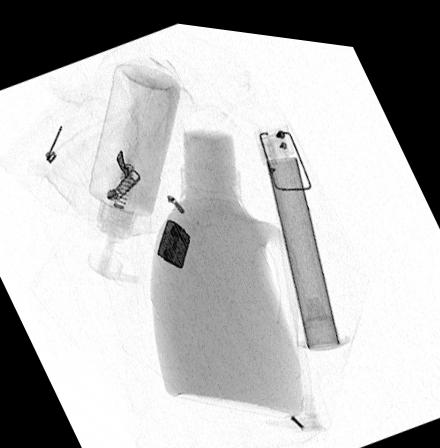Lighter: (156, 214, 190, 263)
